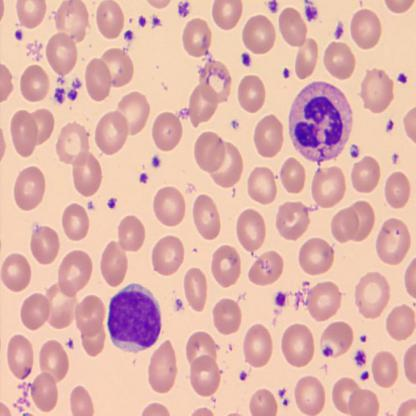Lymphocyte: (108, 281, 162, 354)
